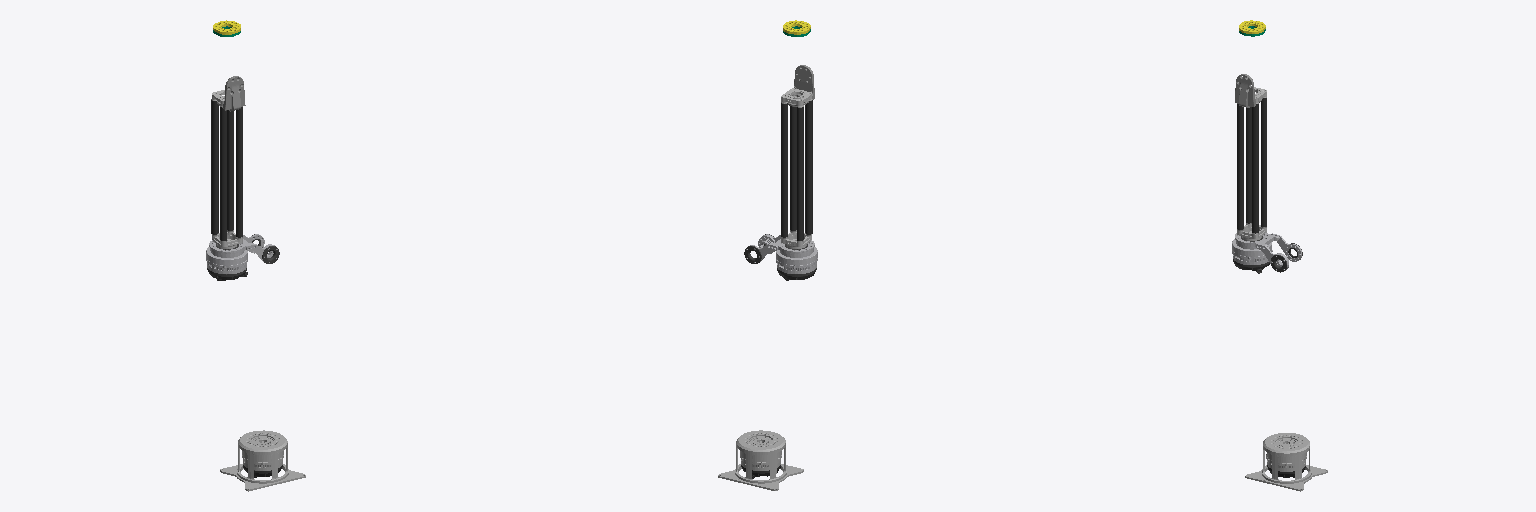
URDF robot description (dynaarm):
<?xml version="1.0" ?>
<!-- =================================================================================== -->
<!-- |    This document was autogenerated by xacro from urdf/dynaarm.urdf.xacro        | -->
<!-- |    EDITING THIS FILE BY HAND IS NOT RECOMMENDED                                 | -->
<!-- =================================================================================== -->
<robot name="dynaarm">
  <!-- load controller -->
  <gazebo>
    <plugin filename="libdynaarm_gazebo.so" name="gazebo_ros_control">
      <robotNamespace>dynaarm</robotNamespace>
      <robotDescription>dynaarm_description</robotDescription>
      <robotBaseLink>dynaarm_base</robotBaseLink>
      <statePublisherRate>400.0</statePublisherRate>
    </plugin>
  </gazebo>
  <!-- create world link and link it to the dynaarm base -->
  <link name="world"/>
  <joint name="joint_base" type="fixed">
    <parent link="world"/>
    <child link="dynaarm_base"/>
    <origin rpy="0 0 0" xyz="0 0 0"/>
    <limit effort="2000" lower="0" upper="0" velocity="0"/>
    <!-- limit effort also defines torque limit and freeze controller gains -->
    <dynamics damping="0.0" friction="0.0"/>
  </joint>
  <link name="dynaarm_base">
    <visual>
      <geometry>
        <mesh filename="package://dynaarm_urdf/meshes/0_base_mesh.dae"/>
      </geometry>
    </visual>
    <collision>
      <origin rpy="0 0 0" xyz="0 0 -0.04"/>
      <geometry>
        <!--<mesh filename="package://dynaarm_urdf/meshes/300_base_anymal_mesh_col.dae"/>-->
        <cylinder length="0.08" radius="0.06"/>
      </geometry>
    </collision>
  </link>
  <!-- Fixed joint to add dummy inertia link -->
  <joint name="dynaarm_base_to_dynaarm_base_inertia" type="fixed">
    <parent link="dynaarm_base"/>
    <child link="dynaarm_base_inertia"/>
    <origin rpy="0 0 0" xyz="0 0 0"/>
  </joint>
  <!-- Dummy inertia link, because KDL cannot have inertia on the base link -->
  <link name="dynaarm_base_inertia">
    <inertial>
      <mass value="1.53"/>
      <origin rpy="0 0 0" xyz="2.6302342999999998e-05 -0.000226836219 -0.03053573033"/>
      <inertia ixx="0.0018534" ixy="-4.535e-06" ixz="9.01e-07" iyy="0.0018514" iyz="5.559454625e-06" izz="0.0022344699999999997"/>
    </inertial>
  </link>
  <link name="dynaarm_SHOULDER">
    <visual>
      <geometry>
        <mesh filename="package://dynaarm_urdf/meshes/100_shoulder_mesh.dae" scale="1.0 1.0 1.0"/>
      </geometry>
    </visual>
    <collision>
      <origin rpy="1.57 0 0" xyz="0 0 0"/>
      <geometry>
        <cylinder length="0.24" radius="0.05"/>
      </geometry>
    </collision>
    <inertial>
      <mass value="2.644"/>
      <origin rpy="0 0 0" xyz="0.0 0.0 -0.0017336"/>
      <inertia ixx="0.010301209999999998" ixy="-5.0849999999999996e-05" ixz="0.0" iyy="0.0030164999999999997" iyz="0.0" izz="0.01009904"/>
    </inertial>
  </link>
  <link name="dynaarm_UPPERARM">
    <visual>
      <geometry>
        <mesh filename="package://dynaarm_urdf/meshes/200_upperarm_mesh.dae" scale="1.0 1.0 1.0"/>
      </geometry>
    </visual>
    <collision>
      <origin rpy="1.57 0 1.57" xyz="0.25 0 0"/>
      <geometry>
        <cylinder length="0.4" radius="0.05"/>
      </geometry>
    </collision>
    <inertial>
      <mass value="1.394"/>
      <origin rpy="0 0 0" xyz="0.21109 2.2e-05 -0.000317"/>
      <inertia ixx="0.00116179" ixy="-7.2e-07" ixz="-0.00014044999999999997" iyy="0.046092126" iyz="7e-09" izz="0.04627953"/>
    </inertial>
  </link>
  <link name="dynaarm_ELBOW">
    <visual>
      <geometry>
        <mesh filename="package://dynaarm_urdf/meshes/300_elbow_mesh.dae" scale="1.0 1.0 1.0"/>
      </geometry>
    </visual>
    <collision>
      <origin rpy="0 1.57 0" xyz="0.185 -0.0935 0"/>
      <geometry>
        <cylinder length="0.46" radius="0.047"/>
      </geometry>
    </collision>
    <inertial>
      <mass value="1.1"/>
      <origin rpy="0 0 0" xyz="0.0068 -0.0848 -0.0006"/>
      <inertia ixx="0.0013843" ixy="-4.16e-05" ixz="8.5e-06" iyy="0.0007168" iyz="-1.05e-05" izz="0.0011300999999999998"/>
    </inertial>
  </link>
  <joint name="SH_ROT" type="revolute">
    <parent link="dynaarm_base"/>
    <child link="dynaarm_SHOULDER"/>
    <axis xyz="0 0 1"/>
    <limit command_effort="40" current="10" effort="40" gear_velocity="17" lower="-3.641592653589793" upper="3.641592653589793" velocity="17"/>
    <!-- limit effort also defines torque limit and freeze controller gains -->
    <origin rpy="0 0 0" xyz="0 0 0.06"/>
    <dynamics damping="0.3" friction="0.0"/>
  </joint>
  <joint name="SH_FLE" type="revolute">
    <parent link="dynaarm_SHOULDER"/>
    <child link="dynaarm_UPPERARM"/>
    <axis xyz="0 0 -1"/>
    <limit command_effort="40" current="10" effort="40" gear_velocity="17" lower="-1.9707963267948965" upper="1.9707963267948965" velocity="17"/>
    <!-- limit effort also defines torque limit and freeze controller gains -->
    <origin rpy="1.5707963267948966 -1.5707963267948966 0" xyz="0 0 0.0"/>
    <dynamics damping="0.3" friction="0.0"/>
  </joint>
  <joint name="EL_FLE" type="revolute">
    <parent link="dynaarm_UPPERARM"/>
    <child link="dynaarm_ELBOW"/>
    <axis xyz="0 0 1"/>
    <limit command_effort="40" current="10" effort="40" gear_velocity="17" lower="-3.141592653589793" upper="3.141592653589793" velocity="17"/>
    <!-- limit effort also defines torque limit and freeze controller gains -->
    <origin rpy="3.141592653589793 0 0" xyz="0.412 0 0"/>
    <dynamics damping="0.3" friction="0.0"/>
  </joint>
  <link name="dynaarm_FOREARM">
    <visual>
      <geometry>
        <mesh filename="package://dynaarm_urdf/meshes/400_forearm_4tube_longer_mesh.dae" scale="1.0 1.0 1.0"/>
      </geometry>
    </visual>
    <inertial>
      <mass value="0.154"/>
      <origin rpy="0 0 0" xyz="0.0 0.0 0.133"/>
      <inertia ixx="0.0018499999999999999" ixy="0.0" ixz="0.0" iyy="0.001849" iyz="0.0" izz="0.00011499999999999999"/>
    </inertial>
  </link>
  <!--Add Realsense-->
  <joint name="FA_ROT" type="revolute">
    <parent link="dynaarm_ELBOW"/>
    <child link="dynaarm_FOREARM"/>
    <axis xyz="0 0 1"/>
    <limit command_effort="40" current="10" effort="40" gear_velocity="17" lower="-3.141592653589793" upper="3.141592653589793" velocity="17"/>
    <!-- limit effort also defines torque limit and freeze controller gains -->
    <origin rpy="1.5707963267948966 0 1.5707963267948966" xyz="0.0325 -0.092 0"/>
    <dynamics damping="0.3" friction="0.0"/>
  </joint>
  <link name="dynaarm_FOREARM_wrist1">
    <visual>
      <geometry>
        <mesh filename="package://dynaarm_urdf/meshes/406_forearm_4tube_wrist1_mesh.dae" scale="1.0 1.0 1.0"/>
      </geometry>
    </visual>
    <inertial>
      <mass value="0.05"/>
      <origin rpy="0 0 0" xyz="0.0 -0.0284 0.0223"/>
      <inertia ixx="3.2e-05" ixy="0.0" ixz="0.0" iyy="3.2999999999999996e-05" iyz="-5.4e-06" izz="1.7e-05"/>
    </inertial>
  </link>
  <joint name="FA_ROT_wrist1" type="fixed">
    <parent link="dynaarm_FOREARM"/>
    <child link="dynaarm_FOREARM_wrist1"/>
    <origin rpy="0 0 0" xyz="0.0 0.0 0.35"/>
    <limit effort="2000" lower="0" upper="0" velocity="0"/>
    <!-- limit effort also defines torque limit and freeze controller gains -->
    <dynamics damping="0.0" friction="0.0"/>
  </joint>
  <link name="dynaarm_WRIST_1">
    <visual>
      <geometry>
        <mesh filename="package://dynaarm_urdf/meshes/500_wrist1_mesh.dae" scale="1.0 1.0 1.0"/>
      </geometry>
    </visual>
    <collision>
      <origin rpy="0 1.5707963267948966 0" xyz="0.045 0 0.03"/>
      <geometry>
        <cylinder length="0.18" radius="0.055"/>
      </geometry>
    </collision>
    <inertial>
      <mass value="1.79"/>
      <origin rpy="0 0 0" xyz="0.047 0.0 0.029"/>
      <inertia ixx="0.0016719999999999999" ixy="0.0" ixz="0.00012969999999999998" iyy="0.004985" iyz="-3.7e-06" izz="0.005209999999999999"/>
    </inertial>
  </link>
  <link name="dynaarm_WRIST_2">
    <visual>
      <geometry>
        <mesh filename="package://dynaarm_urdf/meshes/600_wrist2_plate_mesh.dae" scale="1.0 1.0 1.0"/>
      </geometry>
    </visual>
    <inertial>
      <mass value="0.03"/>
      <origin rpy="0 0 0" xyz="0.0 0.0 0.0064"/>
      <inertia ixx="7.4e-06" ixy="0.0" ixz="0.0" iyy="7.4e-06" iyz="0.0" izz="1.4199999999999998e-05"/>
    </inertial>
  </link>
  <joint name="WRIST_1" type="revolute">
    <parent link="dynaarm_FOREARM_wrist1"/>
    <child link="dynaarm_WRIST_1"/>
    <axis xyz="0 0 1"/>
    <limit command_effort="40" current="10" effort="40" gear_velocity="17" lower="-1.5707963267948966" upper="1.5707963267948966" velocity="17"/>
    <!-- limit effort also defines torque limit and freeze controller gains -->
    <origin rpy="0 -1.5707963267948966 -1.5707963267948966" xyz="0.0 -0.03 0.055"/>
    <dynamics damping="0.3" friction="0.0"/>
  </joint>
  <joint name="WRIST_2" type="revolute">
    <parent link="dynaarm_WRIST_1"/>
    <child link="dynaarm_WRIST_2"/>
    <axis xyz="0 0 1"/>
    <limit command_effort="40" current="10" effort="40" gear_velocity="17" lower="-3.141592653589793" upper="3.141592653589793" velocity="17"/>
    <!-- limit effort also defines torque limit and freeze controller gains -->
    <origin rpy="0 1.5707963267948966 0" xyz="0.12 0.0 0.03"/>
    <dynamics damping="0.3" friction="0.0"/>
  </joint>
  <link name="ftSensor_interfacePlate">
    <visual>
      <geometry>
        <mesh filename="package://dynaarm_urdf/meshes/404_forearm_4tube_ftsPlate_mesh.dae" scale="1.0 1.0 1.0"/>
      </geometry>
    </visual>
    <inertial>
      <mass value="0.03"/>
      <origin rpy="0 0 0" xyz="0.0 0.0 0.003"/>
      <inertia ixx="9.999999999999999e-06" ixy="0.0" ixz="0.0" iyy="9.999999999999999e-06" iyz="0.0" izz="1.9999999999999998e-05"/>
    </inertial>
  </link>
  <joint name="ftSensor_interfacePlate" type="fixed">
    <parent link="dynaarm_WRIST_2"/>
    <child link="ftSensor_interfacePlate"/>
    <origin rpy="0 0 0" xyz="0 0 0"/>
    <limit effort="2000" lower="0" upper="0" velocity="0"/>
    <!-- limit effort also defines torque limit and freeze controller gains -->
    <dynamics damping="0.0" friction="0.0"/>
  </joint>
  <link name="ftSensor_interfacePlate2">
    <visual>
      <geometry>
        <mesh filename="package://dynaarm_urdf/meshes/404_forearm_4tube_ftsPlate_mesh.dae" scale="1.0 1.0 1.0"/>
      </geometry>
    </visual>
    <inertial>
      <mass value="0.03"/>
      <origin rpy="0 0 0" xyz="0.0 0.0 0.003"/>
      <inertia ixx="9.999999999999999e-06" ixy="0.0" ixz="0.0" iyy="9.999999999999999e-06" iyz="0.0" izz="1.9999999999999998e-05"/>
    </inertial>
  </link>
  <joint name="ftSensor_interfacePlate2" type="fixed">
    <parent link="ftSensor_interfacePlate"/>
    <child link="ftSensor_interfacePlate2"/>
    <origin rpy="0 0 0" xyz="0 0 0.006"/>
    <limit effort="2000" lower="0" upper="0" velocity="0"/>
    <!-- limit effort also defines torque limit and freeze controller gains -->
    <dynamics damping="0.0" friction="0.0"/>
  </joint>
  <link name="realsense_base">
    <!-- used in the elbow joint to attach to the mimic joint and and to the elbow joint -->
    <visual>
      <origin rpy="0 0 0" xyz="-0.0005 0 0"/>
      <geometry>
        <box size="0.001 0.001 0.001"/>
      </geometry>
    </visual>
    <inertial>
      <origin rpy="0 0 0" xyz="0.0 0.0 0.0"/>
      <mass value="1e-6"/>
      <inertia ixx="1e-6" ixy="0.0" ixz="0.0" iyy="1e-6" iyz="0.0" izz="1e-6"/>
    </inertial>
  </link>
  <gazebo reference="realsense_base">
    <kp>10000.0</kp>
    <kd>10.0</kd>
    <mu1>0.8</mu1>
    <mu2>0.8</mu2>
  </gazebo>
  <joint name="gripper_base_joint" type="fixed">
    <parent link="ftSensor_interfacePlate2"/>
    <child link="realsense_base"/>
    <origin rpy="0 0 -1.5707963267948966" xyz="0 0 0.006"/>
    <limit effort="2000" lower="0" upper="0" velocity="0"/>
    <!-- limit effort also defines torque limit and freeze controller gains -->
    <dynamics damping="0.0" friction="0.0"/>
  </joint>
  <link name="gripper_base">
    <!-- used in the elbow joint to attach to the mimic joint and and to the elbow joint -->
    <visual>
      <origin rpy="0 0 0" xyz="-0.0005 0 0"/>
      <geometry>
        <box size="0.001 0.001 0.001"/>
      </geometry>
    </visual>
    <inertial>
      <origin rpy="0 0 0" xyz="0.0 0.0 0.0"/>
      <mass value="1e-6"/>
      <inertia ixx="1e-6" ixy="0.0" ixz="0.0" iyy="1e-6" iyz="0.0" izz="1e-6"/>
    </inertial>
  </link>
  <gazebo reference="gripper_base">
    <kp>10000.0</kp>
    <kd>10.0</kd>
    <mu1>0.8</mu1>
    <mu2>0.8</mu2>
  </gazebo>
  <joint name="WRIST_2_realsense_base" type="fixed">
    <parent link="realsense_base"/>
    <child link="gripper_base"/>
    <origin rpy="0 0 0" xyz="0.0 0.0 0.0"/>
    <limit effort="2000" lower="0" upper="0" velocity="0"/>
    <!-- limit effort also defines torque limit and freeze controller gains -->
    <dynamics damping="0.0" friction="0.0"/>
  </joint>
  <link name="dynaarm_END_EFFECTOR">
    <!-- used in the elbow joint to attach to the mimic joint and and to the elbow joint -->
    <visual>
      <origin rpy="0 0 0" xyz="-0.0005 0 0"/>
      <geometry>
        <box size="0.001 0.001 0.001"/>
      </geometry>
    </visual>
    <inertial>
      <origin rpy="0 0 0" xyz="0.0 0.0 0.0"/>
      <mass value="1e-6"/>
      <inertia ixx="1e-6" ixy="0.0" ixz="0.0" iyy="1e-6" iyz="0.0" izz="1e-6"/>
    </inertial>
  </link>
  <gazebo reference="dynaarm_END_EFFECTOR">
    <kp>10000.0</kp>
    <kd>10.0</kd>
    <mu1>0.8</mu1>
    <mu2>0.8</mu2>
  </gazebo>
  <joint name="ee_fix_joint" type="fixed">
    <parent link="gripper_base"/>
    <child link="dynaarm_END_EFFECTOR"/>
    <origin rpy="0 0 0" xyz="0 0 0"/>
    <limit effort="2000" lower="0" upper="0" velocity="0"/>
    <!-- limit effort also defines torque limit and freeze controller gains -->
    <dynamics damping="0.0" friction="0.0"/>
  </joint>
  <gazebo reference="dynaarm_END_EFFECTOR">
    <kp>10000.0</kp>
    <kd>10.0</kd>
    <mu1>0.8</mu1>
    <mu2>0.8</mu2>
  </gazebo>
</robot>

--- Facts derived from the render (not from the file) ---
The picture shows the robot from 3 angles, left to right: view 1: azimuth 30°, elevation 25°; view 2: azimuth 150°, elevation 25°; view 3: azimuth 330°, elevation 25°; orthographic projection.
Robot: dynaarm — 15 links, 14 joints (6 revolute, 8 fixed); root link world; default pose: all joints at 0.
Visible links, largest first — view 1: dynaarm_FOREARM, dynaarm_base, dynaarm_ELBOW, dynaarm_FOREARM_wrist1; view 2: dynaarm_FOREARM, dynaarm_base, dynaarm_ELBOW, dynaarm_FOREARM_wrist1; view 3: dynaarm_FOREARM, dynaarm_base, dynaarm_ELBOW, dynaarm_FOREARM_wrist1.
Link boxes in pixels (left/top/right/bottom): dynaarm_FOREARM: left=211, top=90, right=242, bottom=248; dynaarm_base: left=220, top=430, right=305, bottom=491; dynaarm_ELBOW: left=206, top=234, right=279, bottom=280; dynaarm_FOREARM_wrist1: left=217, top=76, right=245, bottom=111; dynaarm_FOREARM: left=781, top=88, right=812, bottom=248; dynaarm_base: left=718, top=430, right=803, bottom=490; dynaarm_ELBOW: left=744, top=234, right=817, bottom=280; dynaarm_FOREARM_wrist1: left=788, top=65, right=814, bottom=106; dynaarm_FOREARM: left=1237, top=87, right=1266, bottom=240; dynaarm_base: left=1245, top=433, right=1327, bottom=491; dynaarm_ELBOW: left=1232, top=233, right=1302, bottom=273; dynaarm_FOREARM_wrist1: left=1235, top=74, right=1262, bottom=107.
Size in the robot's own frame: 0.2168 by 0.126 by 1.12 metres.
6 mesh visuals loaded from 9 distinct referenced files (5 Collada DAE); not drawn: 4 (reference not matched to a file when rendering).
